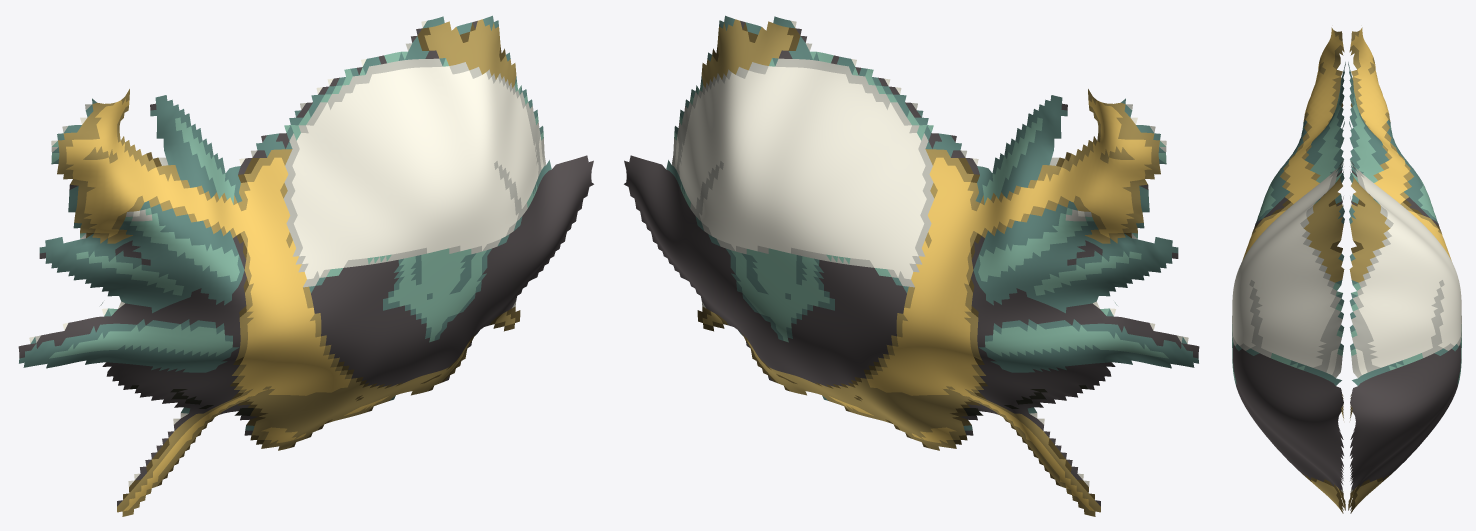
File: nabicocoon.glb
3 views of the same model, side by side, from view 1: azimuth 30°, elevation 25°; view 2: azimuth 150°, elevation 25°; view 3: azimuth 270°, elevation 25° (orthographic). The views are drawn at different scales.
Parts seen in each view (by area): view 1: nabicocoon; view 2: nabicocoon; view 3: nabicocoon.
Boxes of the visible parts, box(x1,y1,x2,y2) form: nabicocoon: box(18, 15, 593, 516); nabicocoon: box(624, 15, 1199, 516); nabicocoon: box(1232, 27, 1461, 513).
Bounding box in the file's own units: 993 × 708 × 373.
